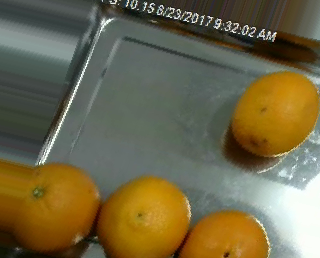Orange: (98, 173, 192, 257), (231, 70, 320, 158), (181, 209, 270, 258)
